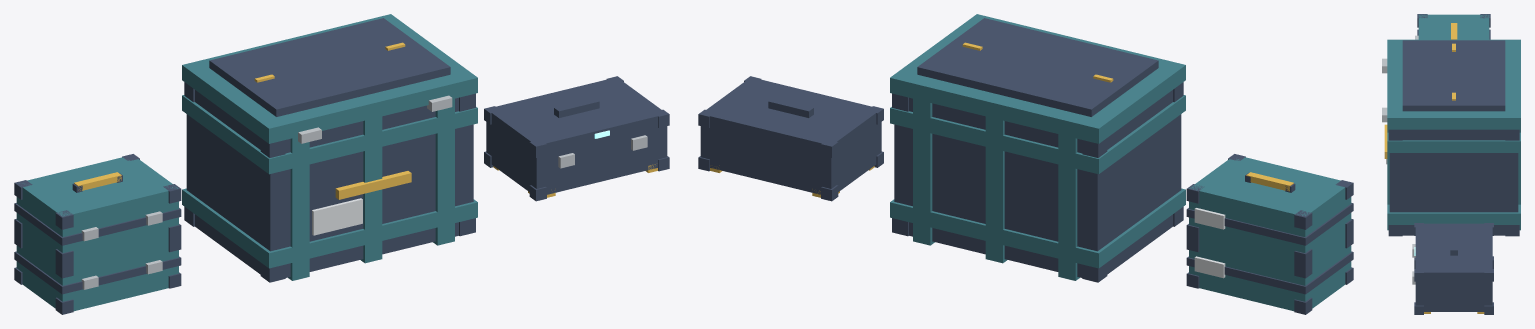
The picture shows the model from 3 angles, left to right: view 1: azimuth 30°, elevation 25°; view 2: azimuth 150°, elevation 25°; view 3: azimuth 270°, elevation 25°; orthographic projection. The views are drawn at different scales.
Parts seen in each view (by area): view 1: DL018_ResearchCrates_graphite_navy, DL018_ResearchCrates_teal_shell, DL018_ResearchCrates_titanium, DL018_ResearchCrates_amber_accent, DL018_ResearchCrates_hull_offwhite; view 2: DL018_ResearchCrates_graphite_navy, DL018_ResearchCrates_teal_shell, DL018_ResearchCrates_hull_offwhite, DL018_ResearchCrates_amber_accent; view 3: DL018_ResearchCrates_graphite_navy, DL018_ResearchCrates_teal_shell, DL018_ResearchCrates_amber_accent, DL018_ResearchCrates_titanium.
Boxes of the visible parts, <box> form: DL018_ResearchCrates_graphite_navy: <box>14,18,669,314</box>; DL018_ResearchCrates_teal_shell: <box>16,14,477,311</box>; DL018_ResearchCrates_titanium: <box>81,95,647,289</box>; DL018_ResearchCrates_amber_accent: <box>74,42,657,199</box>; DL018_ResearchCrates_hull_offwhite: <box>312,198,362,235</box>; DL018_ResearchCrates_graphite_navy: <box>698,18,1353,314</box>; DL018_ResearchCrates_teal_shell: <box>890,14,1351,311</box>; DL018_ResearchCrates_hull_offwhite: <box>1194,208,1225,278</box>; DL018_ResearchCrates_amber_accent: <box>710,42,1293,197</box>; DL018_ResearchCrates_graphite_navy: <box>1388,14,1519,314</box>; DL018_ResearchCrates_teal_shell: <box>1387,14,1520,230</box>; DL018_ResearchCrates_amber_accent: <box>1384,23,1484,313</box>; DL018_ResearchCrates_titanium: <box>1382,35,1418,284</box>.
Size of the model in its own units: 4.17 by 1.11 by 1.08.
